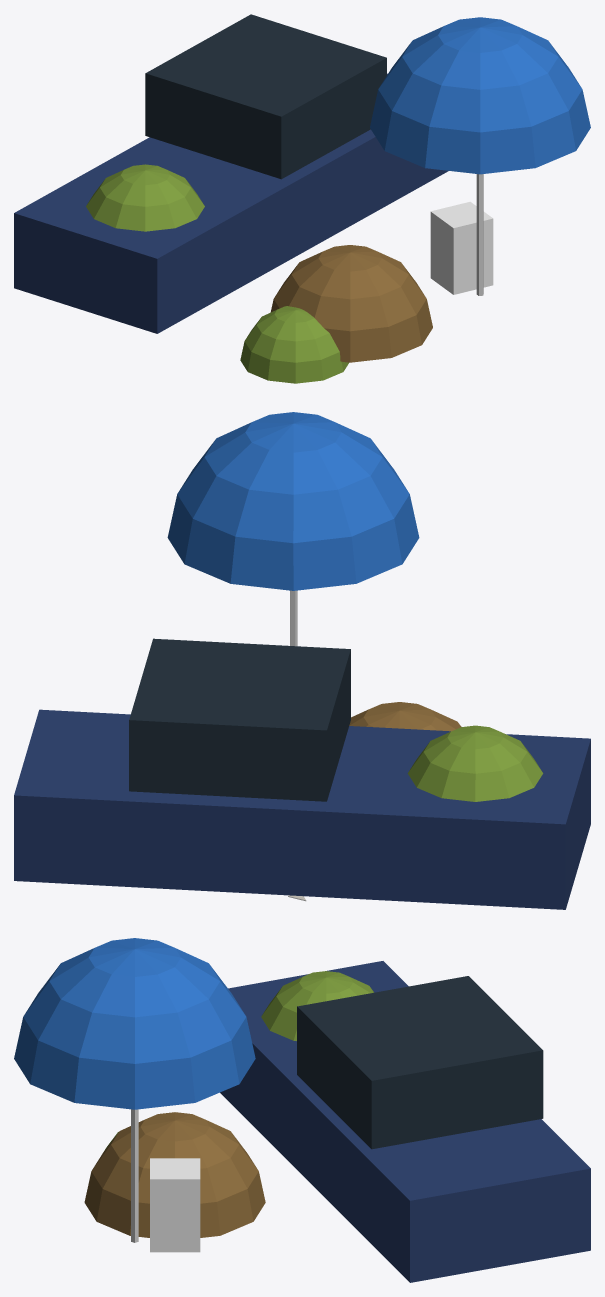
File: lh_coconut.glb
3 renders of one model, top to bottom at view 1: azimuth 30°, elevation 25°; view 2: azimuth 150°, elevation 25°; view 3: azimuth 270°, elevation 25°, orthographic. The views are drawn at different scales.
Visible parts, largest first — view 1: lh_coconut_lod0; view 2: lh_coconut_lod0; view 3: lh_coconut_lod0.
Boxes of the visible parts, box(x1,y1,x2,y2) form: lh_coconut_lod0: box(14, 14, 590, 383); lh_coconut_lod0: box(14, 412, 590, 909); lh_coconut_lod0: box(14, 938, 590, 1282).
Size of what is drawn, in the model's own units: 5.64 by 3.55 by 5.73.
